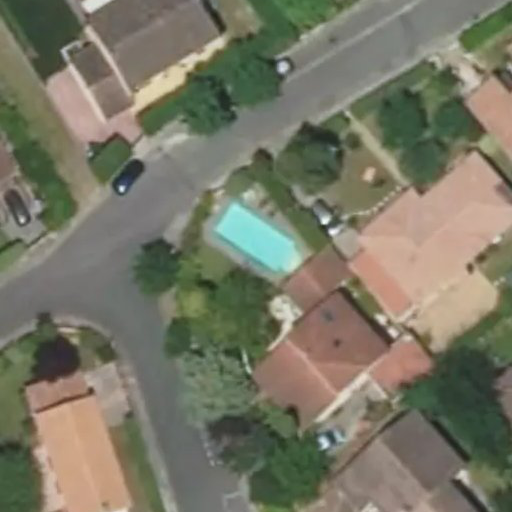pool: (210, 234, 311, 259)
